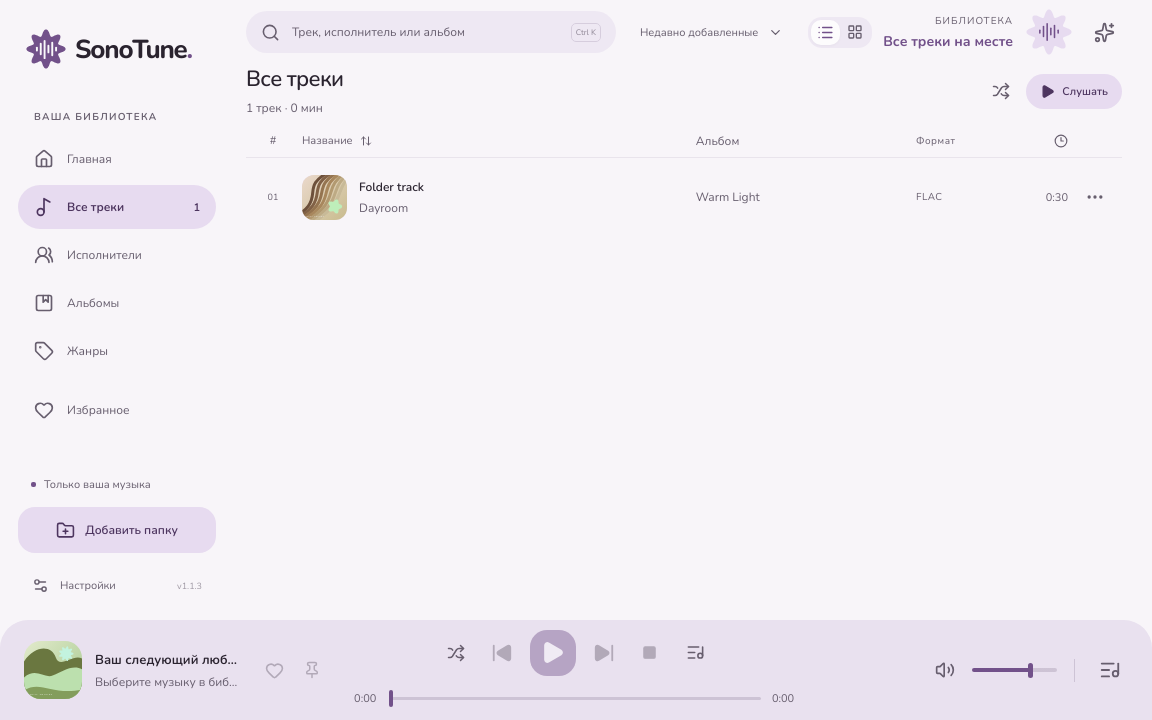
Test: shows the track folder through dots and removes the library status footer
The width and height of the screenshot is (1152, 720).
Click the button named "Действия: Folder track": [1095, 197] box [1080,181,1110,213]
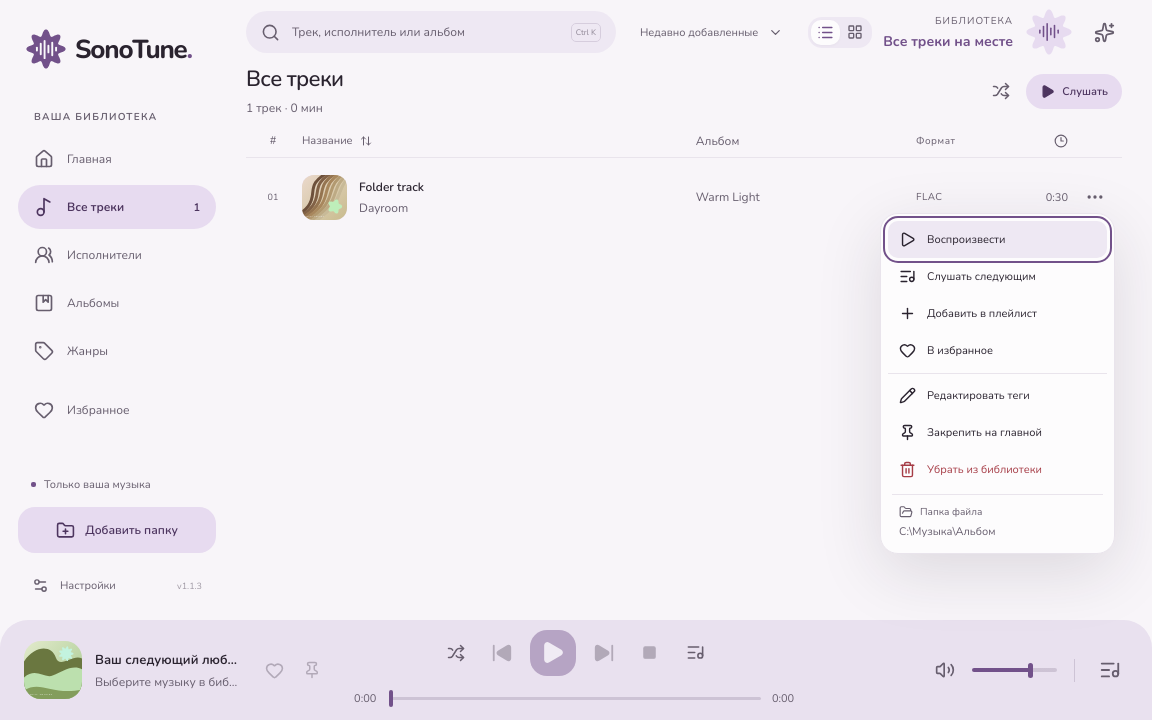
Check: the text "Папка файла" is shown, box [899,505,982,519]
Check: the text "C:\\Музыка\\Альбом" is shown, box [899,524,996,539]
Check: the menu item "Воспроизвести" is shown, box [888,221,1107,258]
